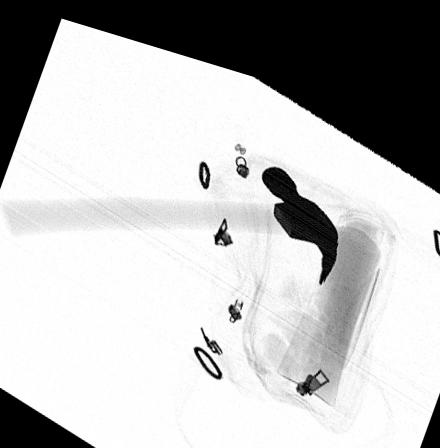Hammer: (0, 148, 339, 269)
